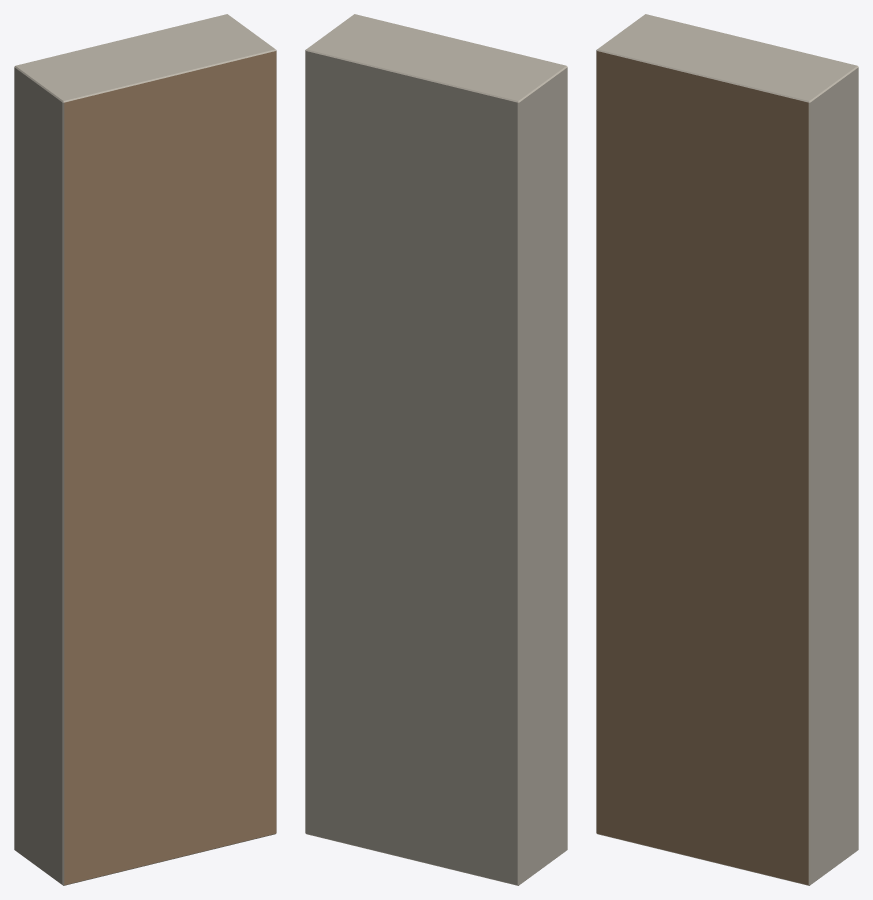
Rendered from arch_wall_ext_w100_h350.glb.
3 renders of one model, left to right at view 1: azimuth 30°, elevation 25°; view 2: azimuth 150°, elevation 25°; view 3: azimuth 330°, elevation 25°, orthographic.
Visible parts, largest first — view 1: Wall; view 2: Wall; view 3: Wall.
Part boxes in pixels (box(x1,y1,x2,y2)): Wall: box(14, 14, 276, 885); Wall: box(305, 14, 567, 885); Wall: box(596, 14, 858, 885).
Size of what is drawn, in the model's own units: 1 by 3.5 by 0.4.
